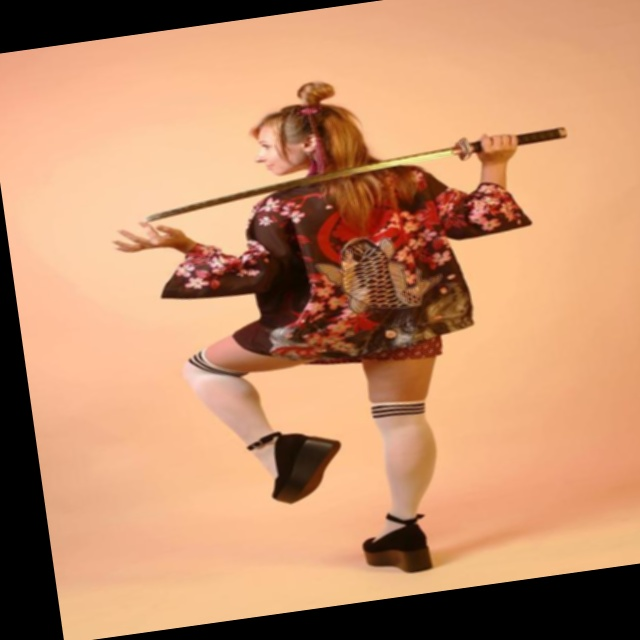Sharp-Object: (130, 121, 586, 233)
